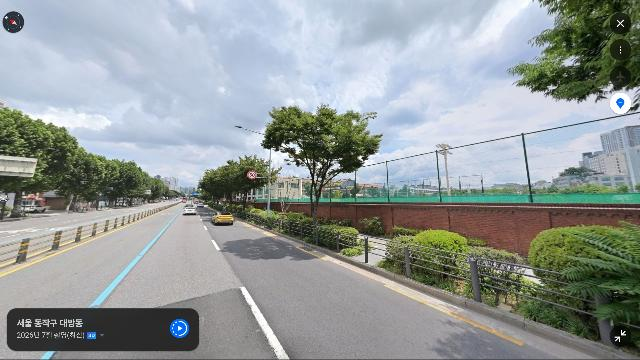other: (260, 103, 383, 235), (506, 0, 640, 110), (0, 105, 76, 216), (201, 154, 270, 218), (59, 145, 110, 215), (94, 156, 138, 212), (276, 164, 301, 231), (126, 166, 156, 209), (144, 173, 166, 208)
